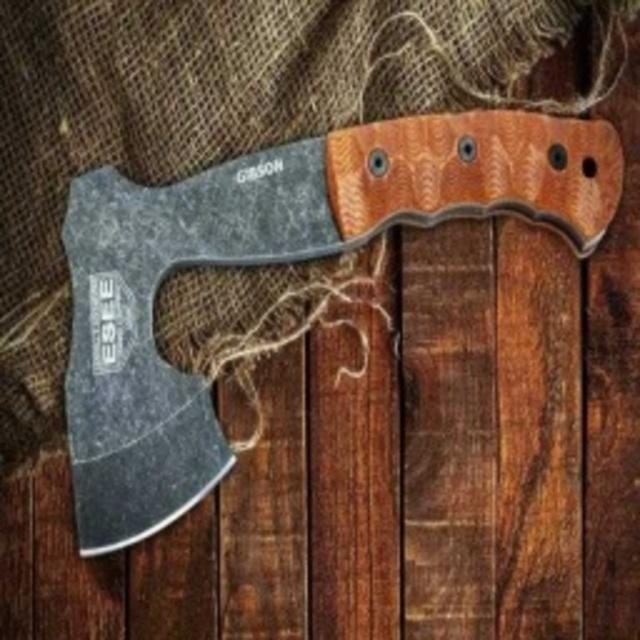ax: (51, 94, 632, 568)
